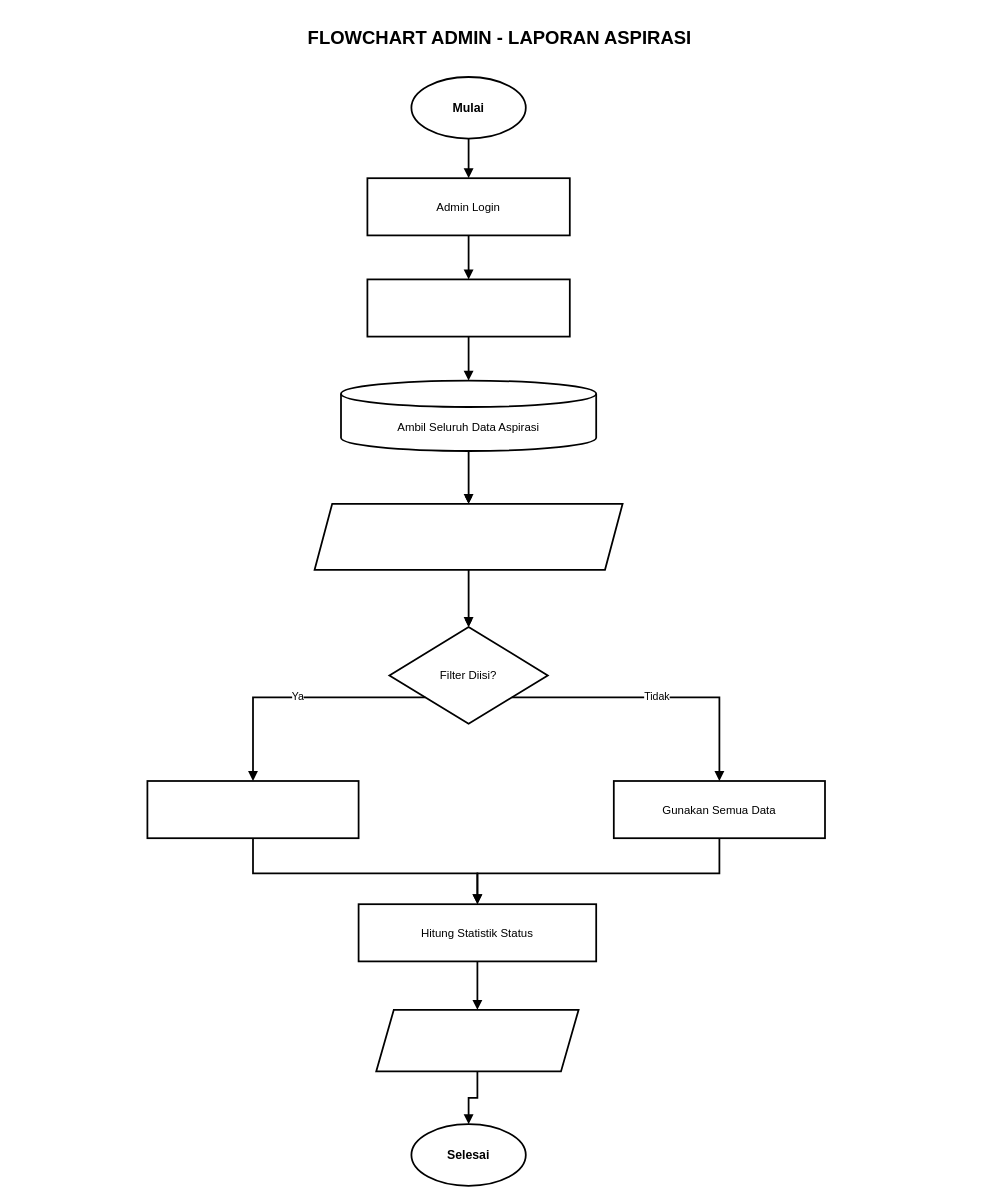
Some shapes in this 998 by 1201 pixel diagram are drawn without their labels. Each missing label, with the box of its shape:
Buka Menu Laporan: (366, 278, 570, 337)
Isi Filter Status, Kategori, Tanggal: (313, 502, 623, 570)
Tampilkan Laporan: (375, 1008, 579, 1072)
Terapkan Filter Data: (146, 780, 359, 839)
